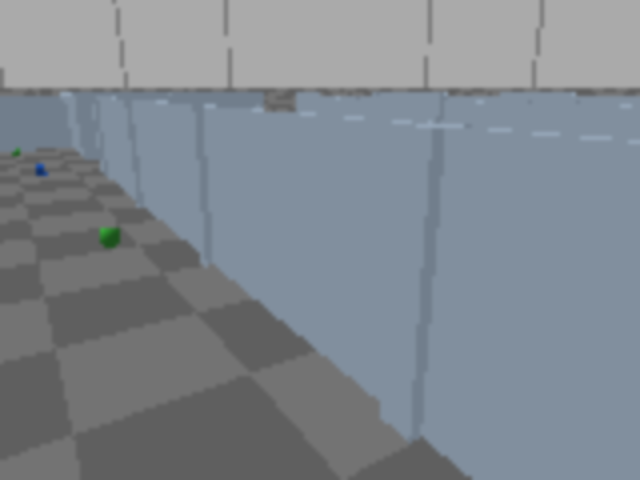puck: (93, 224, 126, 251)
